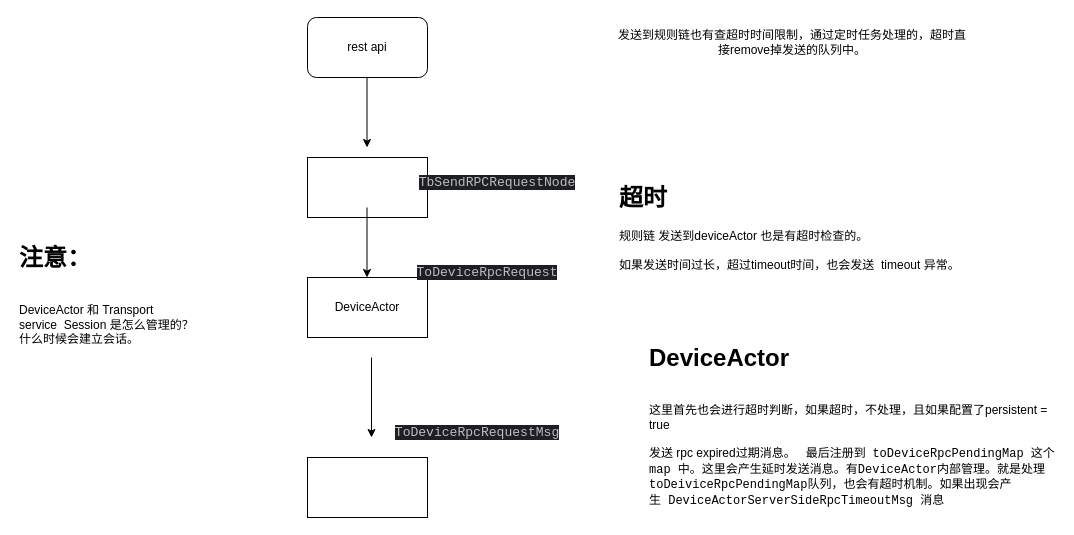
This 1074x535 diagram has some shape labels left out. Here are the shapes that lost their labels. From the top down, the centre of each, then its label:
At point (367, 187): "规则链".
At point (367, 487): "Transport service".
